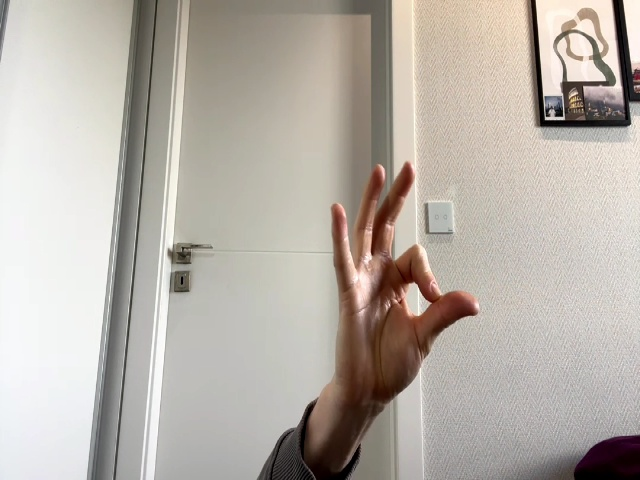S: (331, 161, 480, 405)
